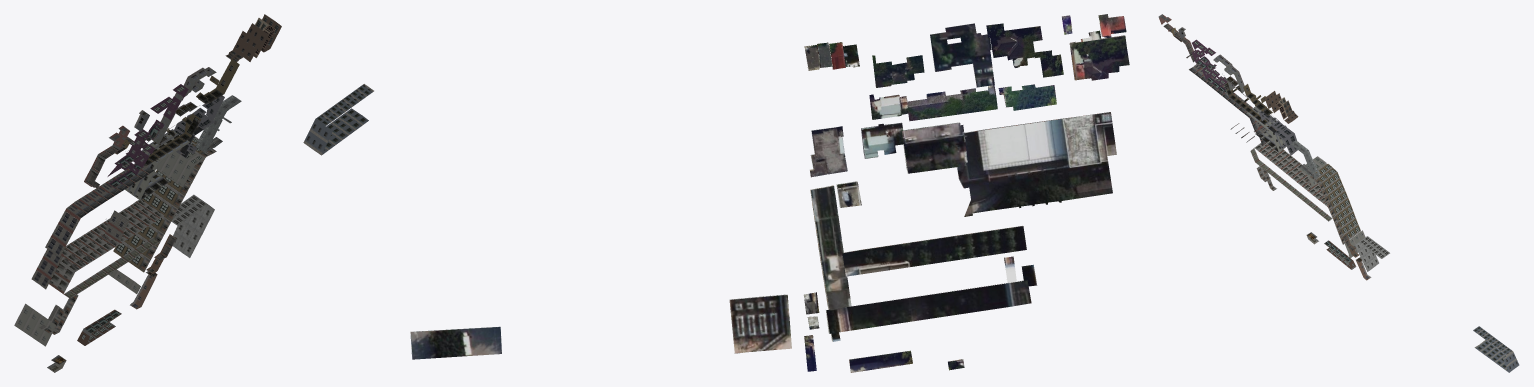
The model's file is tile_LOD8_r1_c2.glb.
The picture shows the model from 3 angles, left to right: view 1: azimuth 30°, elevation 25°; view 2: azimuth 150°, elevation 25°; view 3: azimuth 270°, elevation 25°; orthographic projection. The views are drawn at different scales.
Size of the model in its own units: 259 by 146 by 228.
Materials: 103 (103 with a texture image).
